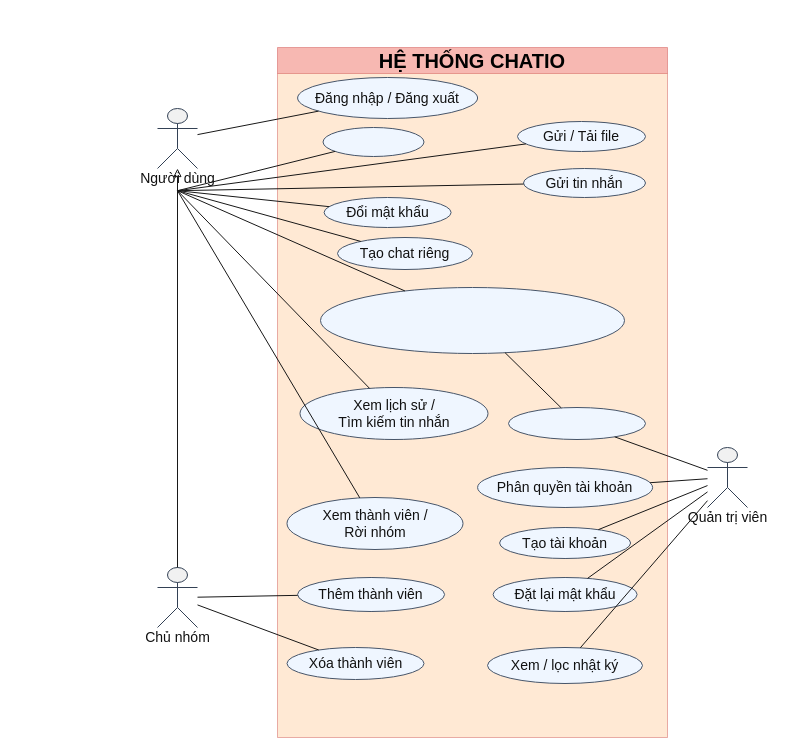
Image size: 794x755. Some labels were removed from this diagram. The shapes that lost their labels are listed below. From the top down, each one's box as (x1, y1, x2, y2) in pixels, then its label:
(322, 126, 424, 156): Tạo nhóm
(320, 286, 624, 354): Xem / mở hội thoại (Riêng và nhóm có quyền tham gia)
(508, 406, 646, 440): Khóa tài khoản
